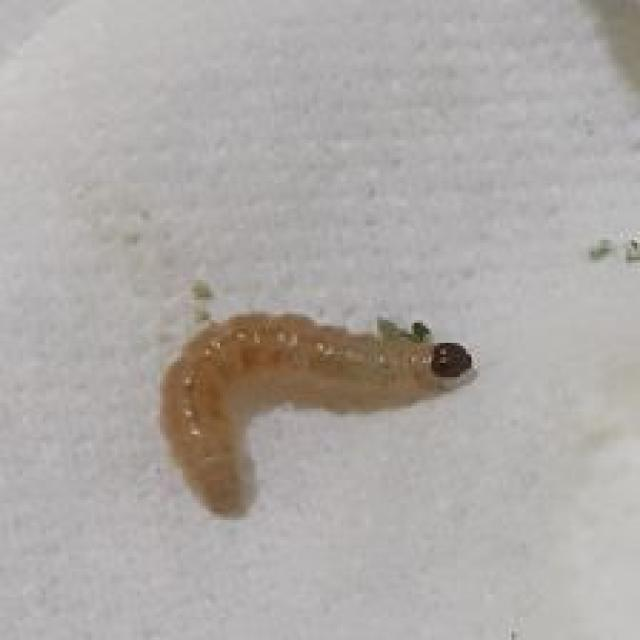white mucus: (132, 280, 490, 533)
